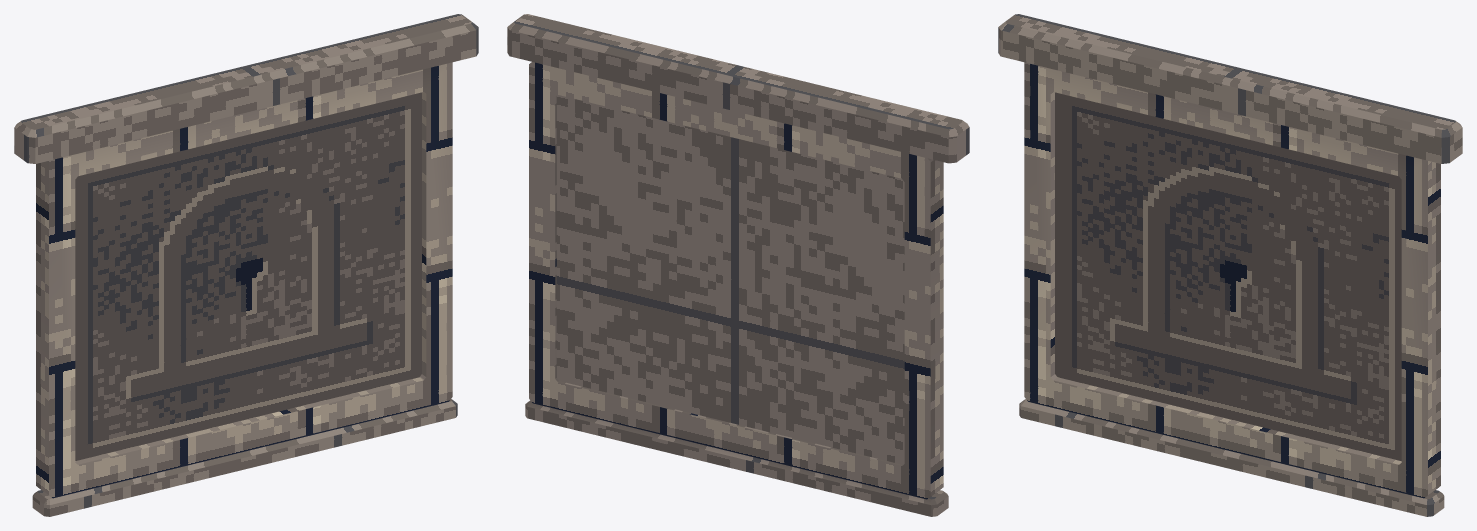
The model's file is tmpl.relief.glb.
3 views of the same model, side by side, from view 1: azimuth 30°, elevation 25°; view 2: azimuth 150°, elevation 25°; view 3: azimuth 330°, elevation 25° (orthographic).
Visible parts, largest first — view 1: kit_relief, kit_frame; view 2: kit_relief, kit_frame; view 3: kit_relief, kit_frame.
Part boxes in pixels (x1,y1,x2,y2): kit_relief: [75, 92, 421, 460]; kit_frame: [14, 14, 478, 516]; kit_relief: [556, 95, 904, 464]; kit_frame: [507, 14, 969, 516]; kit_relief: [1055, 92, 1401, 460]; kit_frame: [998, 14, 1462, 516].
Bounding box in the file's own units: 3.6 × 2.98 × 0.26.
Materials: 3 (3 with a texture image).
